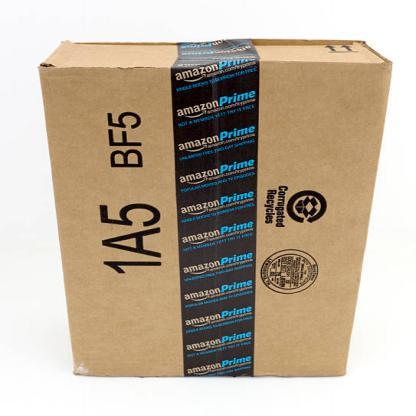package: (37, 39, 395, 378)
